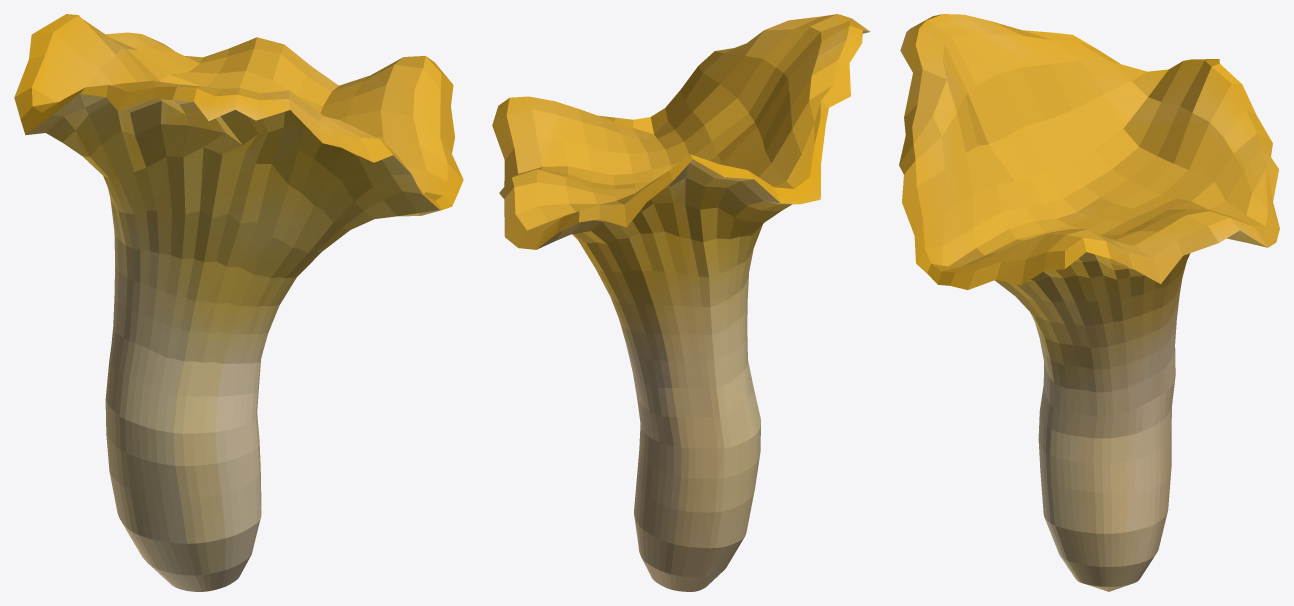
File: chanterelle.glb
The picture shows the model from 3 angles, left to right: view 1: azimuth 30°, elevation 25°; view 2: azimuth 150°, elevation 25°; view 3: azimuth 270°, elevation 25°; orthographic projection. The views are drawn at different scales.
Visible parts, largest first — view 1: Cylinder_2; view 2: Cylinder_2; view 3: Cylinder_2.
Part boxes in pixels (<box>): Cylinder_2: <box>14,14,463,591</box>; Cylinder_2: <box>492,14,870,591</box>; Cylinder_2: <box>899,14,1279,591</box>.
Bounding box in the file's own units: 0.1912 × 0.2752 × 0.178.
1 material, 1 textured.
